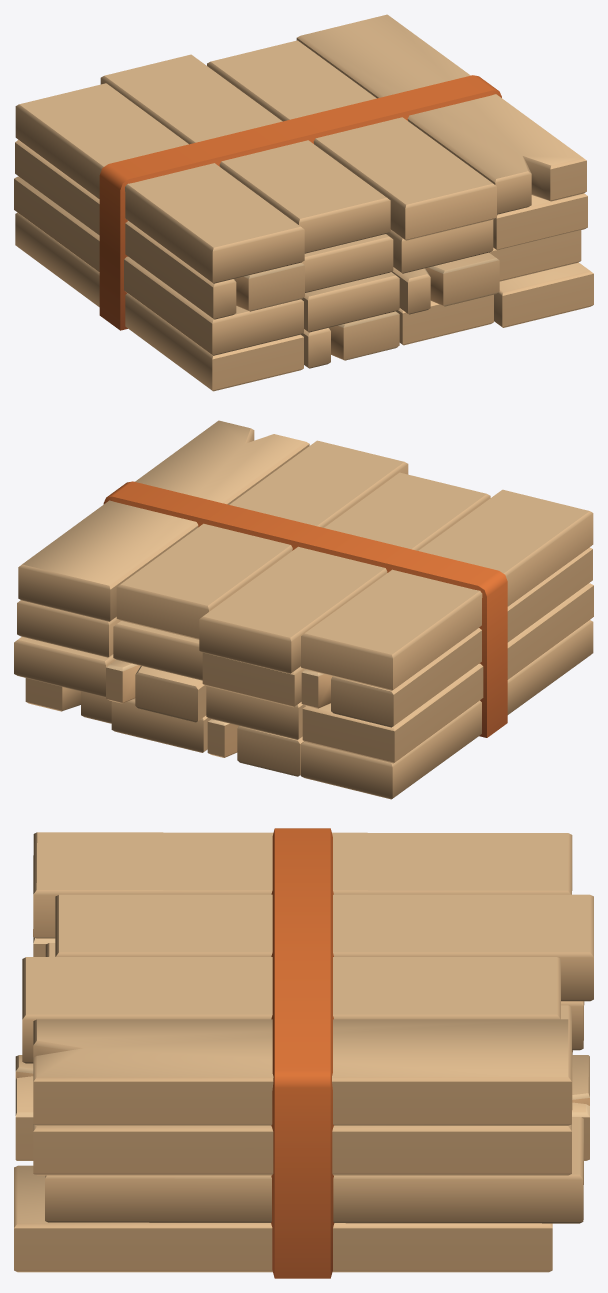
Rendered from Wood_Planks_Stack_Medium.glb.
3 renders of one model, top to bottom at view 1: azimuth 30°, elevation 25°; view 2: azimuth 150°, elevation 25°; view 3: azimuth 270°, elevation 25°, orthographic. The views are drawn at different scales.
Parts seen in each view (by area): view 1: Wood_Planks_Stack_Medium; view 2: Wood_Planks_Stack_Medium; view 3: Wood_Planks_Stack_Medium.
Boxes of the visible parts, bbox=[...] form: Wood_Planks_Stack_Medium: bbox=[14, 14, 593, 391]; Wood_Planks_Stack_Medium: bbox=[14, 420, 593, 799]; Wood_Planks_Stack_Medium: bbox=[14, 828, 593, 1278].
Size of the model in its own units: 1.67 by 0.6232 by 1.62.
Materials: 1 (1 with a texture image).
